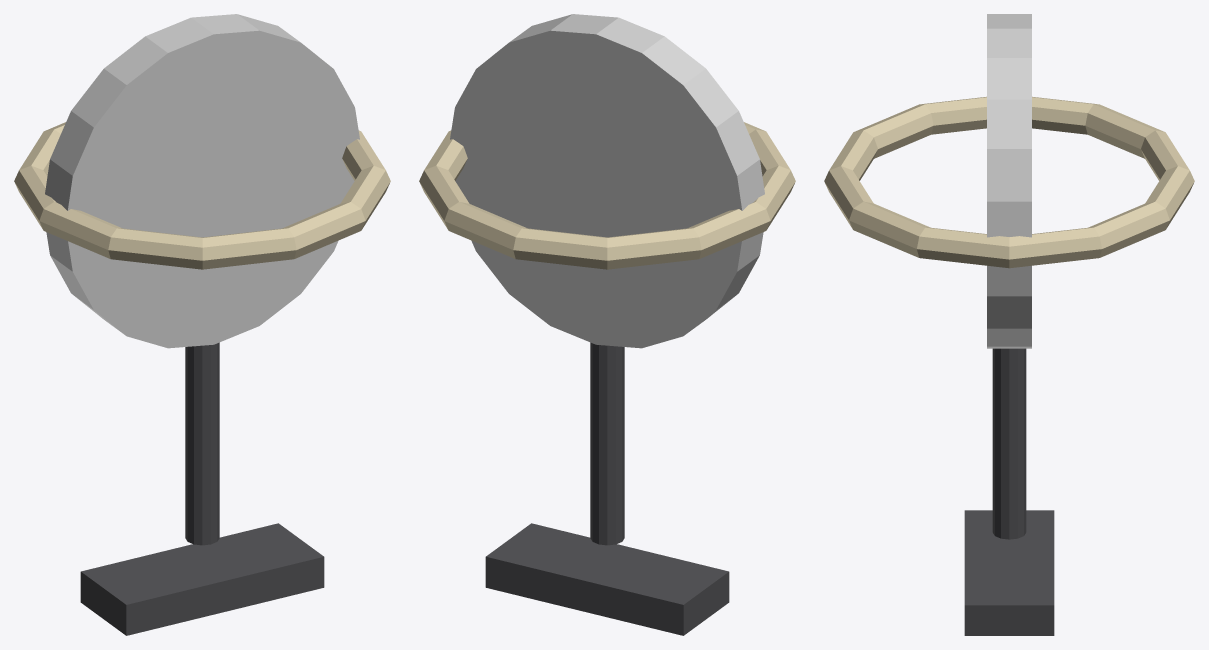
File: ilu_relogio_luz.glb
3 renders of one model, left to right at view 1: azimuth 30°, elevation 25°; view 2: azimuth 150°, elevation 25°; view 3: azimuth 270°, elevation 25°, orthographic.
Visible parts, largest first — view 1: ILU_Relogio_Luz_v01; view 2: ILU_Relogio_Luz_v01; view 3: ILU_Relogio_Luz_v01.
Boxes of the visible parts, bbox=[...] form: ILU_Relogio_Luz_v01: bbox=[14, 14, 390, 635]; ILU_Relogio_Luz_v01: bbox=[419, 14, 795, 635]; ILU_Relogio_Luz_v01: bbox=[824, 14, 1194, 635].
Bounding box in the file's own units: 0.33 × 0.55 × 0.33.
